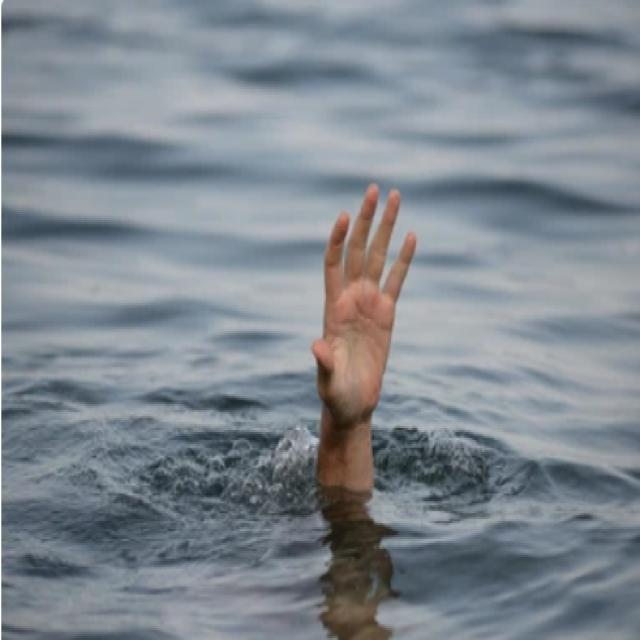Out of Water: (306, 178, 419, 492)
